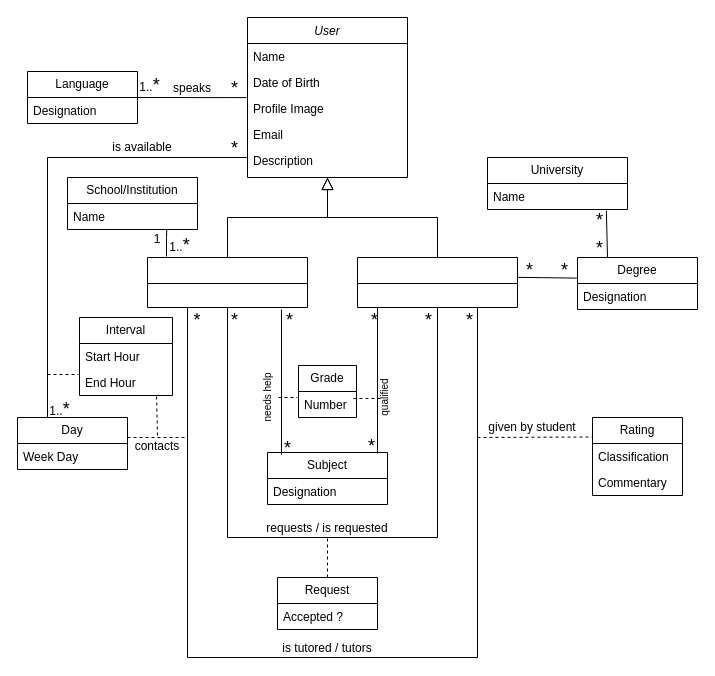
This 715x676 diagram has some shape labels left out. The centre of each missing label's shape, as x and y in pixels:
"Student" belongs at [227,282].
"Tutor" belongs at [437,282].
